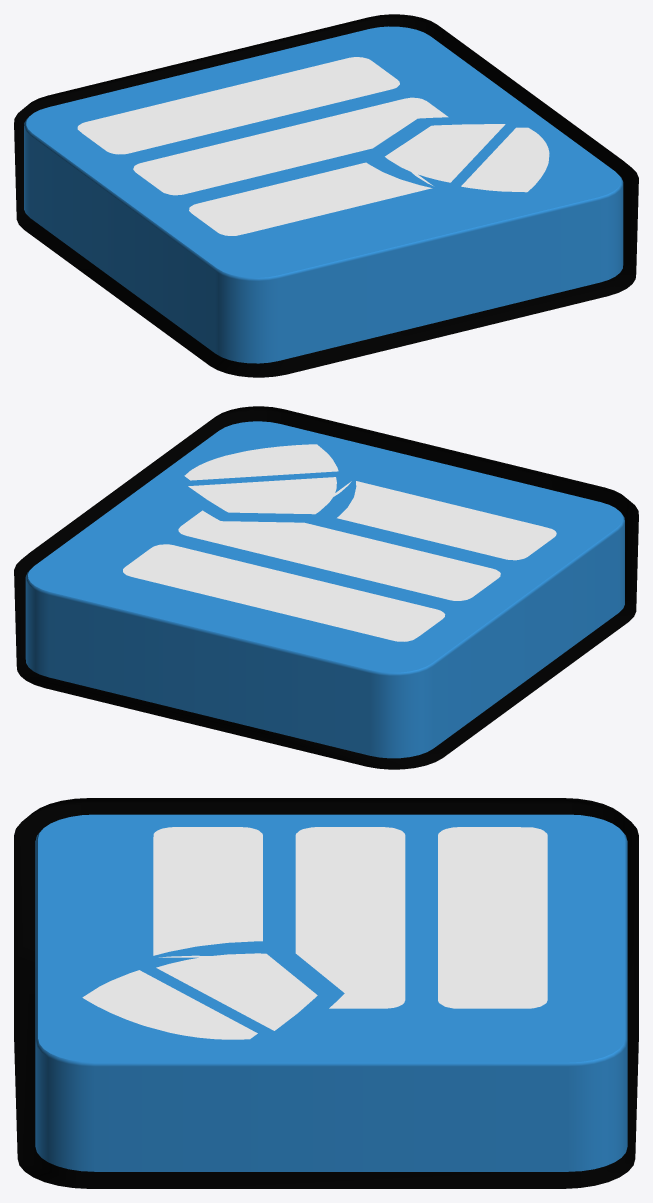
File: AntiVirus.obj
3 views of the same model, one above another, from view 1: azimuth 30°, elevation 25°; view 2: azimuth 150°, elevation 25°; view 3: azimuth 270°, elevation 25° (orthographic). The views are drawn at different scales.
Parts seen in each view (by area): view 1: AntiVirus; view 2: AntiVirus; view 3: AntiVirus.
Boxes of the visible parts, bbox=[...] form: AntiVirus: bbox=[14, 14, 638, 377]; AntiVirus: bbox=[14, 406, 638, 769]; AntiVirus: bbox=[14, 798, 638, 1188].
Size of the model in its own units: 1.06 by 0.2484 by 1.06.
